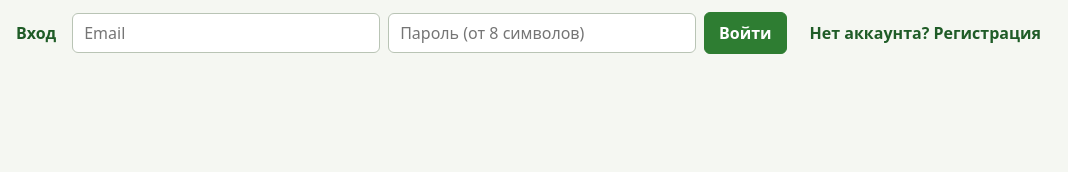
LoginForm › показывает сообщение при ошибке API
This screenshot has width=1068, height=172.
In the field labelled "Email": (226, 33) [72, 13, 380, 53], type "farmer@agromarket.kz"
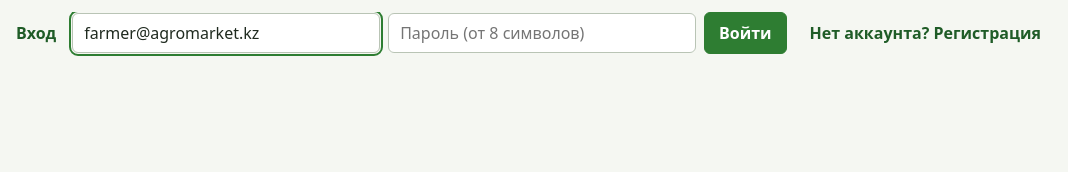
In the password field labelled "Пароль (от 8 символов)": (542, 33) [388, 13, 696, 53], type "secret123"
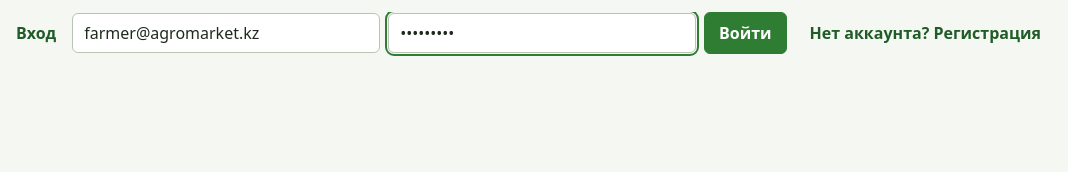
Click the button "Войти": (745, 33) [704, 12, 786, 54]
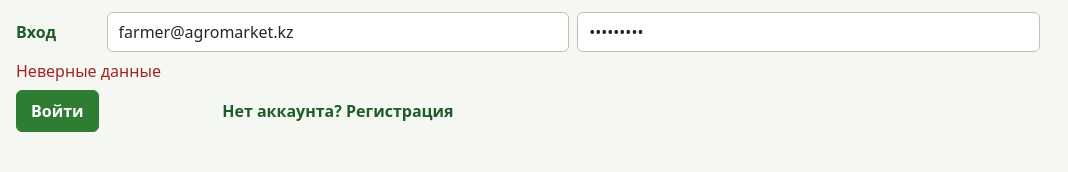
Result: the text "Неверные данные" is shown at [16, 60, 161, 82]
